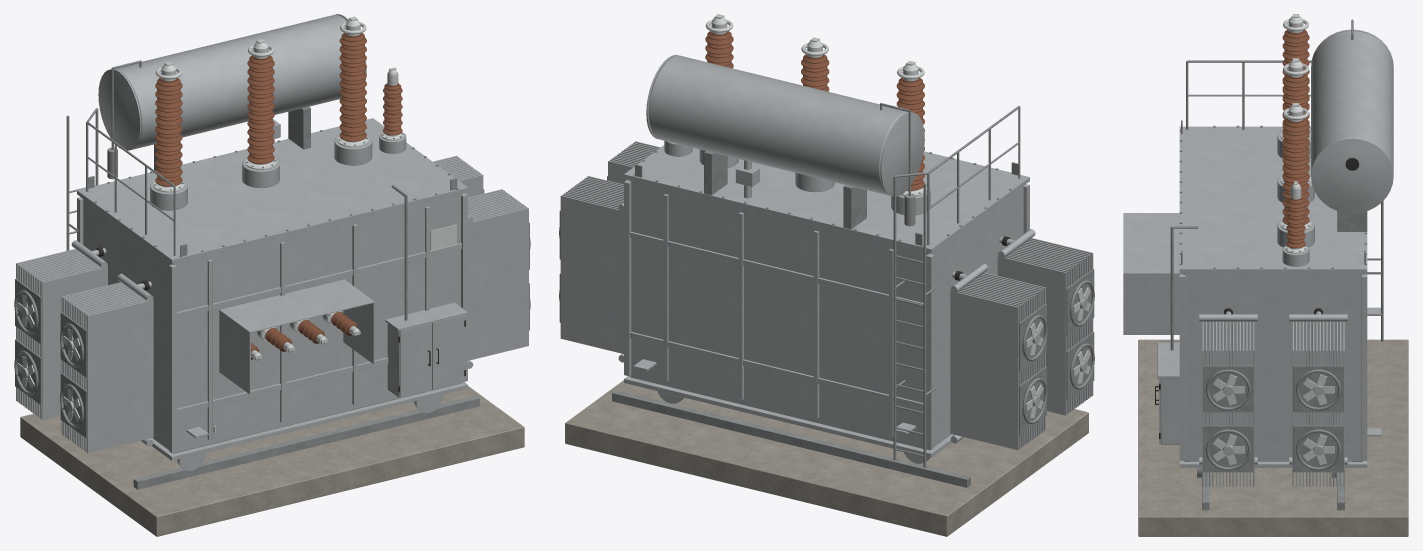
File: PowerTransformer_138kV.fbx
The picture shows the model from 3 angles, left to right: view 1: azimuth 30°, elevation 25°; view 2: azimuth 150°, elevation 25°; view 3: azimuth 270°, elevation 25°; orthographic projection. The views are drawn at different scales.
Parts seen in each view (by area): view 1: Body_CoatedSteel_LOD0, Body_Concrete_LOD0, Body_GalvanizedSteel_LOD0, Body_PorcelainBrown_LOD0, Body_Aluminium_LOD0, ControlCabinet_DoorRight_LOD0, ControlCabinet_DoorLeft_LOD0; view 2: Body_CoatedSteel_LOD0, Body_Concrete_LOD0, Body_GalvanizedSteel_LOD0, Body_PorcelainBrown_LOD0, Body_Aluminium_LOD0; view 3: Body_CoatedSteel_LOD0, Body_Concrete_LOD0, Body_GalvanizedSteel_LOD0, Body_PorcelainBrown_LOD0, Body_Aluminium_LOD0.
Part boxes in pixels (left/top/right/bottom): Body_CoatedSteel_LOD0: left=16, top=14, right=528, bottom=470; Body_Concrete_LOD0: left=20, top=386, right=524, bottom=536; Body_GalvanizedSteel_LOD0: left=14, top=60, right=530, bottom=489; Body_PorcelainBrown_LOD0: left=155, top=33, right=402, bottom=359; Body_Aluminium_LOD0: left=17, top=16, right=456, bottom=432; ControlCabinet_DoorRight_LOD0: left=432, top=315, right=464, bottom=389; ControlCabinet_DoorLeft_LOD0: left=399, top=323, right=431, bottom=397; Body_CoatedSteel_LOD0: left=560, top=54, right=1093, bottom=463; Body_Concrete_LOD0: left=565, top=380, right=1088, bottom=536; Body_GalvanizedSteel_LOD0: left=559, top=103, right=1094, bottom=487; Body_PorcelainBrown_LOD0: left=705, top=31, right=924, bottom=190; Body_Aluminium_LOD0: left=705, top=14, right=1090, bottom=418; Body_CoatedSteel_LOD0: left=1123, top=29, right=1393, bottom=486; Body_Concrete_LOD0: left=1138, top=339, right=1408, bottom=536; Body_GalvanizedSteel_LOD0: left=1170, top=19, right=1383, bottom=510; Body_PorcelainBrown_LOD0: left=1282, top=29, right=1309, bottom=248; Body_Aluminium_LOD0: left=1213, top=14, right=1334, bottom=465.
Size of what is drawn, in the model's own units: 6.86 by 5.71 by 3.8.
